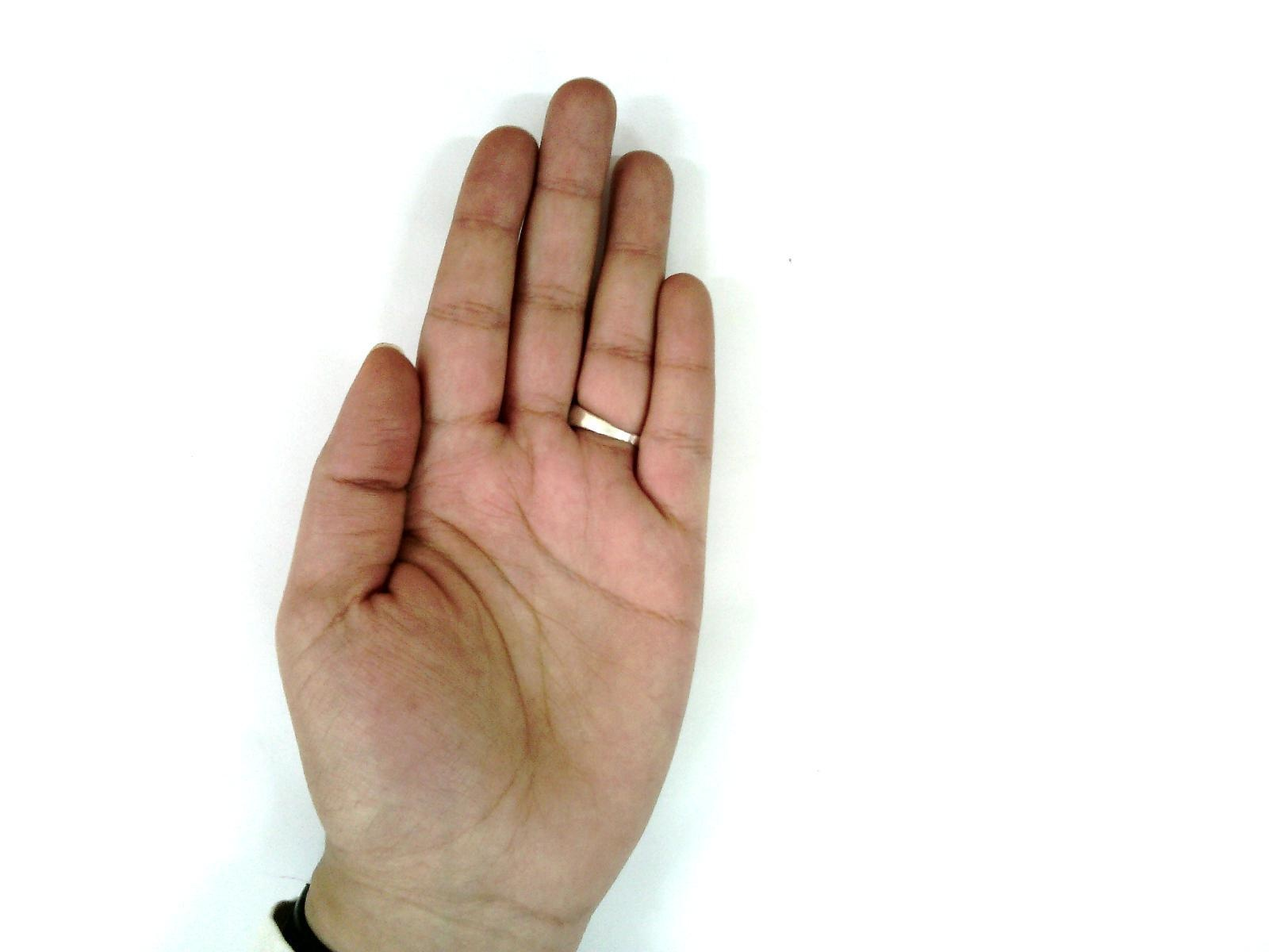open_palm: (271, 77, 721, 933)
